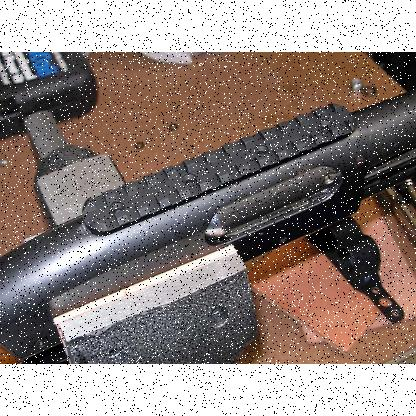gun: (0, 69, 415, 363)
